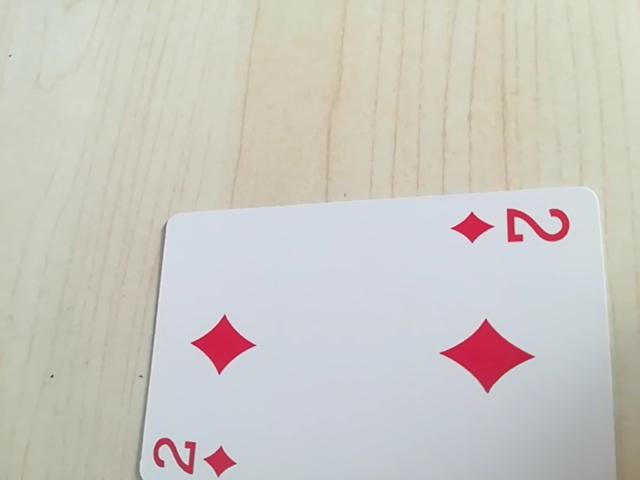fk 2: (450, 201, 576, 254), (150, 428, 245, 480)
